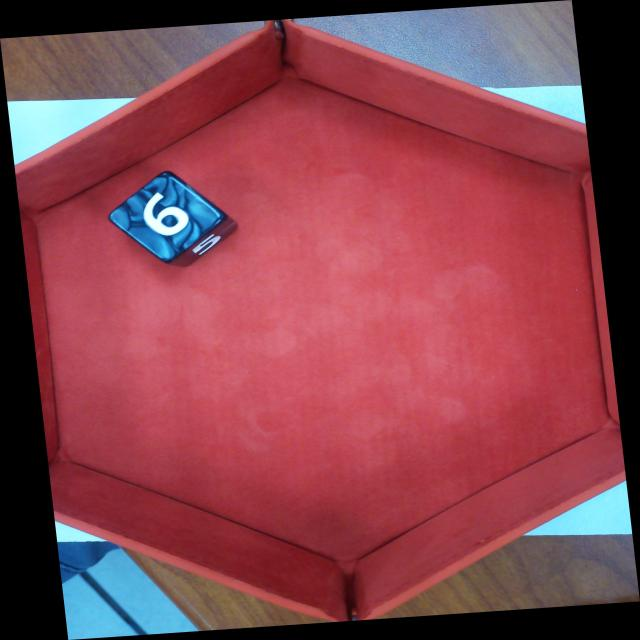dice: (111, 172, 221, 257)
